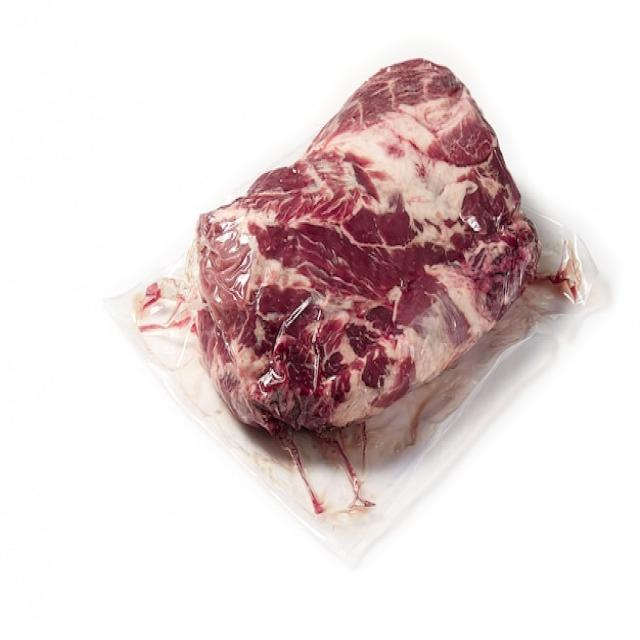pork: (158, 58, 580, 483)
